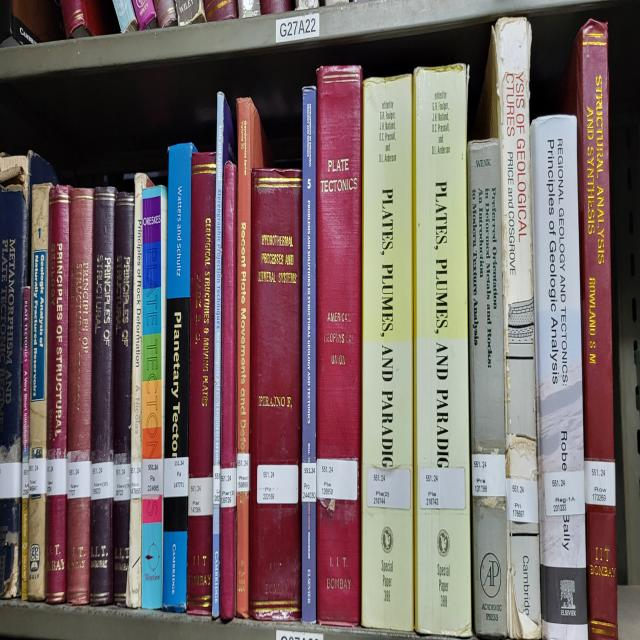Book: (476, 19, 541, 639), (561, 19, 618, 639), (414, 65, 472, 636), (361, 73, 414, 630), (530, 114, 586, 636), (316, 65, 362, 625), (249, 168, 301, 620), (468, 141, 508, 636), (236, 97, 272, 620), (164, 143, 196, 606), (188, 154, 216, 614), (0, 157, 29, 598), (211, 92, 235, 617), (66, 189, 94, 603), (141, 187, 168, 609), (126, 173, 151, 609), (90, 187, 116, 606), (46, 187, 70, 603), (28, 184, 51, 601), (112, 192, 134, 606), (301, 87, 316, 622), (220, 162, 236, 620), (21, 287, 31, 601)
Label: (419, 468, 465, 509), (544, 471, 585, 517), (316, 457, 358, 501), (368, 468, 410, 509), (256, 465, 299, 503), (506, 476, 539, 522), (471, 455, 506, 498), (584, 460, 616, 506), (164, 457, 189, 498), (68, 460, 91, 501), (91, 460, 114, 501), (141, 457, 164, 498), (189, 476, 212, 517), (46, 457, 66, 495), (0, 463, 21, 498), (220, 468, 236, 509), (29, 457, 46, 495), (114, 463, 130, 501), (301, 463, 316, 503), (236, 452, 250, 492), (130, 463, 141, 501), (212, 465, 221, 506), (21, 463, 29, 498)
